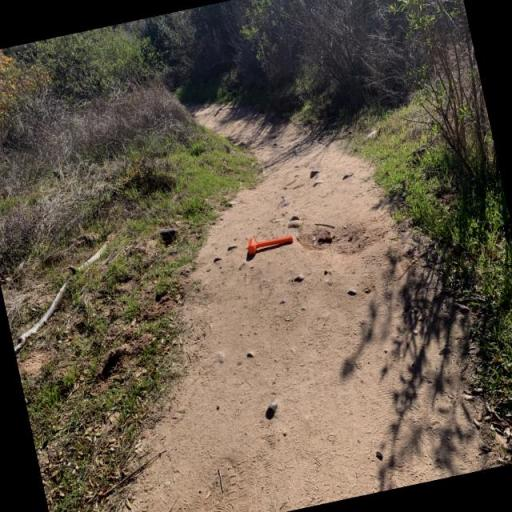mallet: (245, 229, 294, 255)
